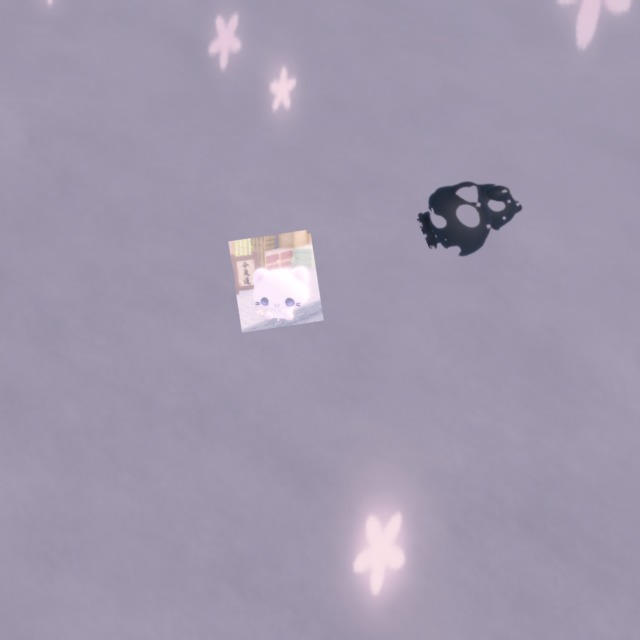urso_branco: (228, 229, 324, 333)
urso_preto: (407, 155, 541, 275)
